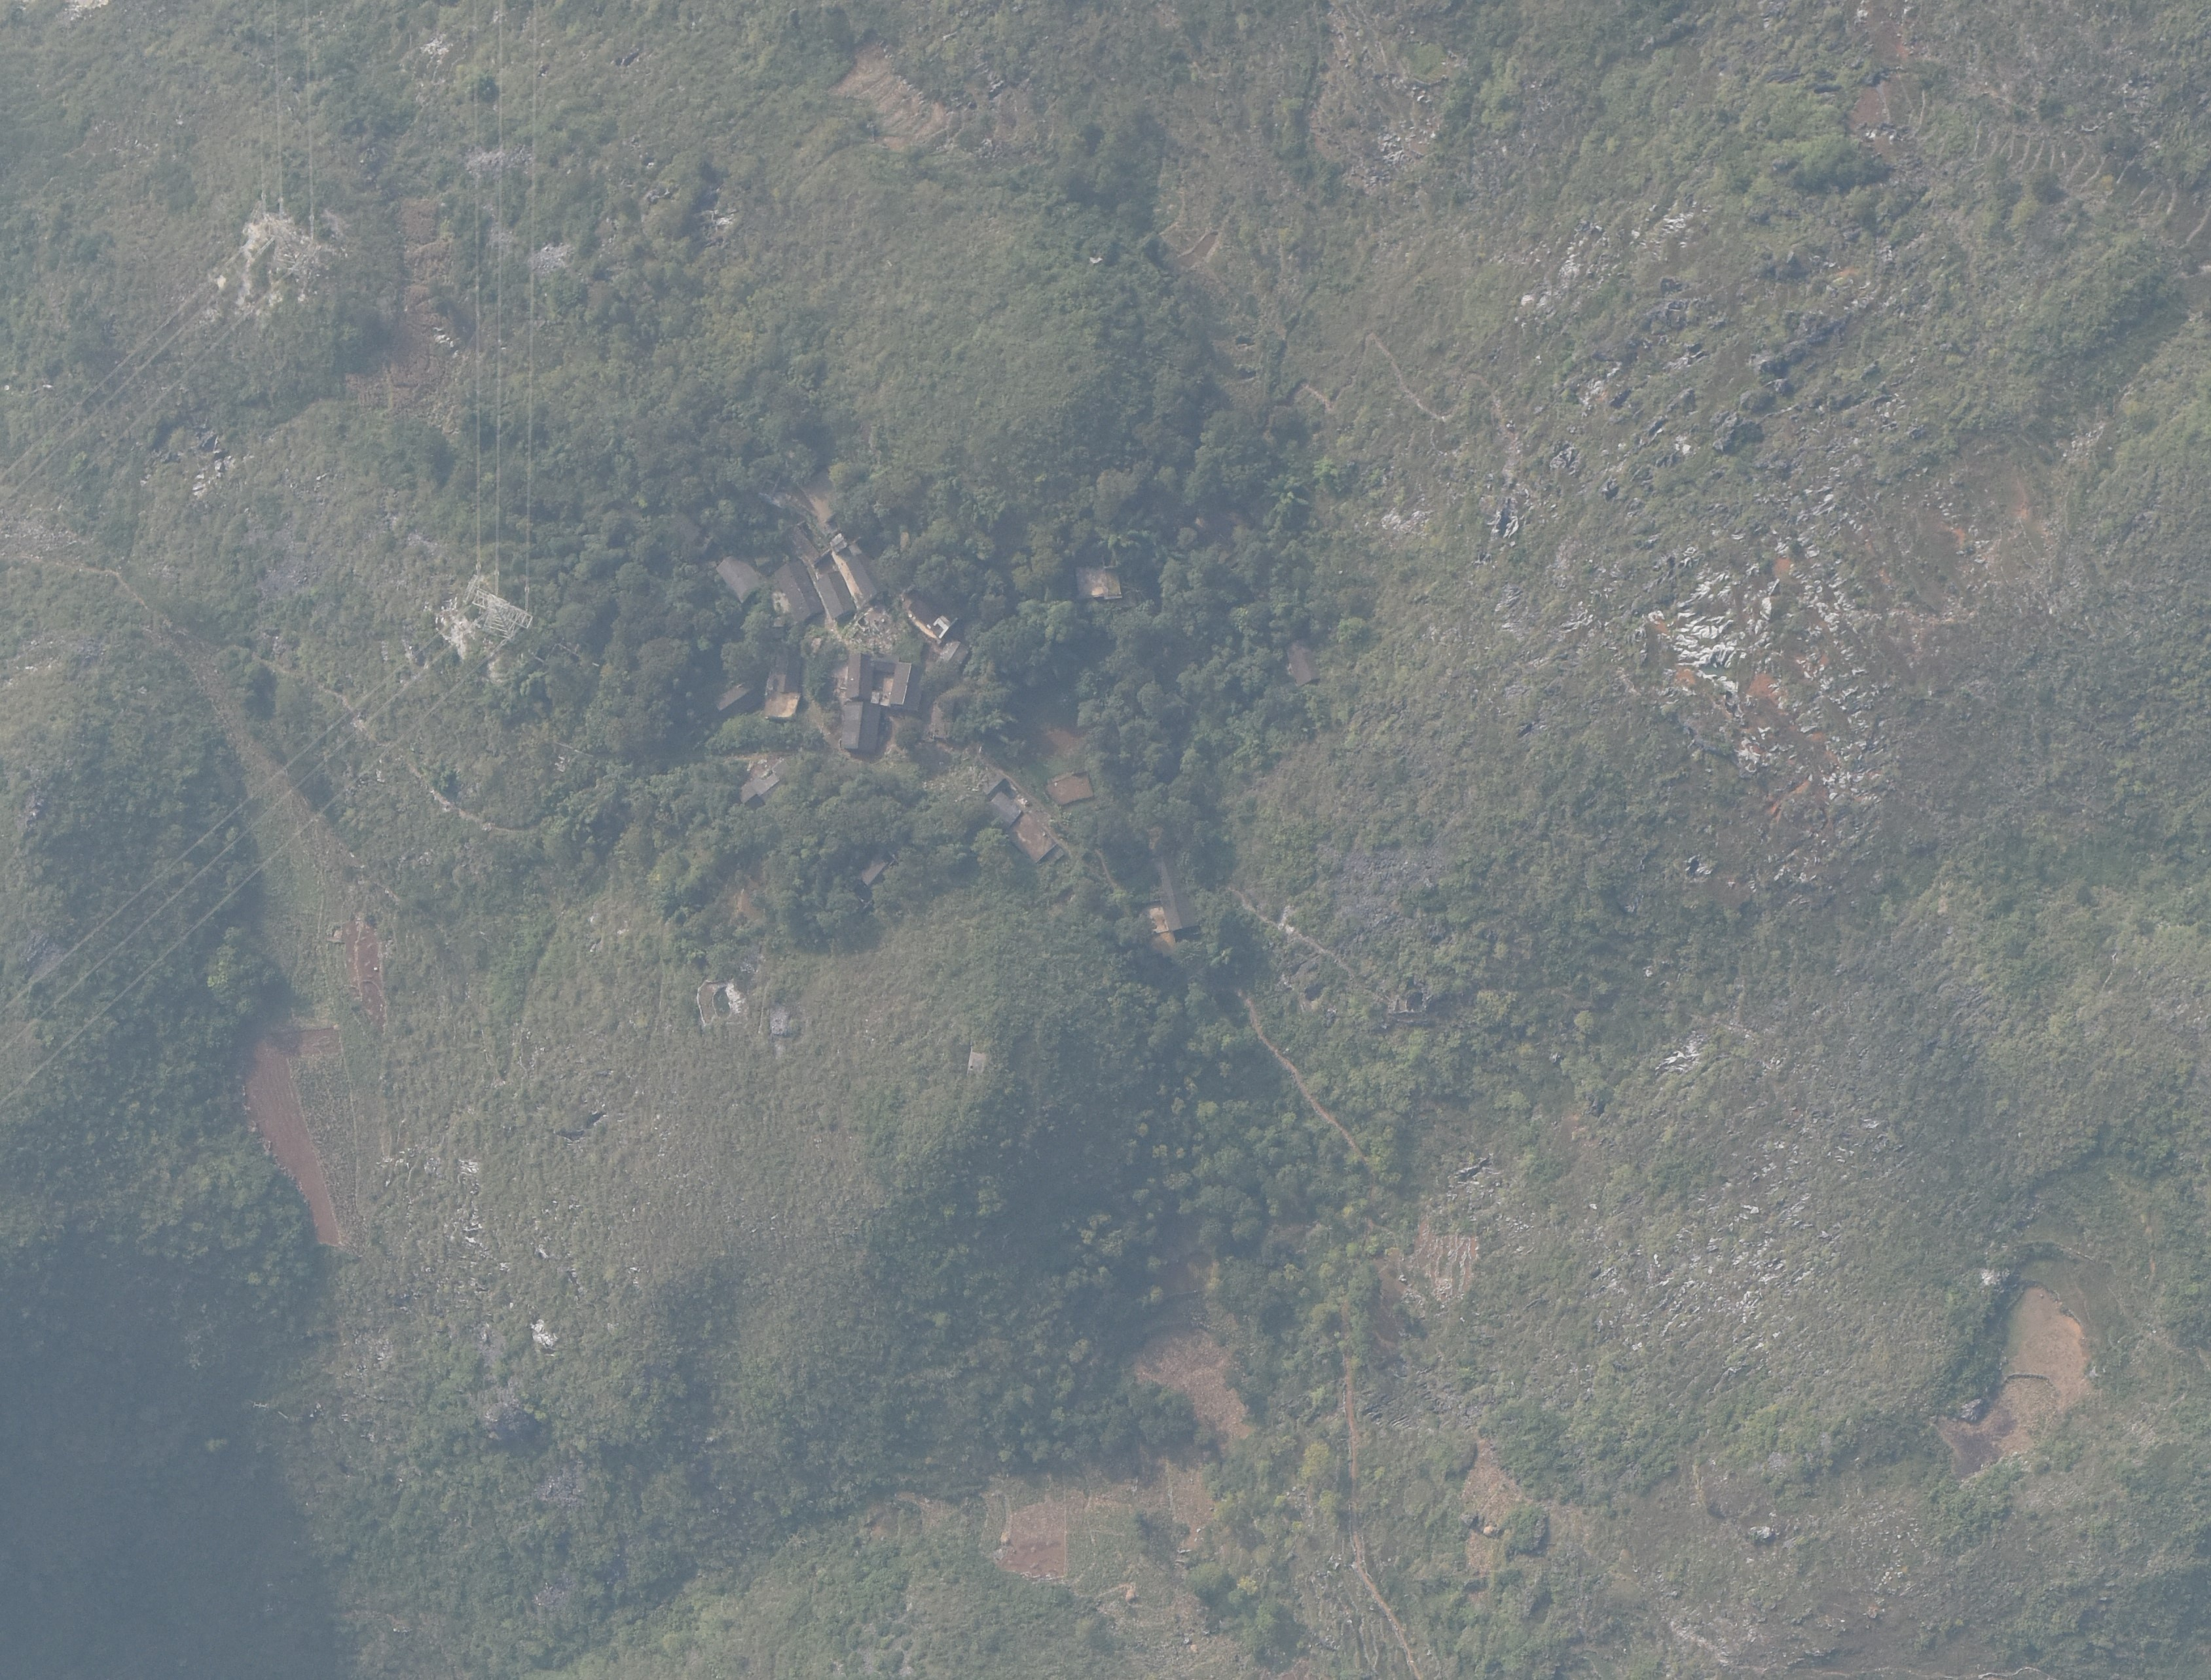building: (845, 653, 919, 713), (1152, 856, 1200, 930), (771, 561, 826, 623), (903, 586, 956, 642), (1008, 812, 1055, 863), (716, 552, 762, 600), (739, 761, 789, 803), (815, 572, 858, 619), (842, 701, 879, 752), (1075, 566, 1128, 602), (1045, 769, 1094, 805), (842, 558, 877, 604), (713, 679, 753, 711), (766, 656, 801, 692), (988, 792, 1022, 829), (859, 847, 889, 886), (941, 639, 967, 669)
cable-tower: (245, 201, 323, 277), (461, 574, 533, 637)
